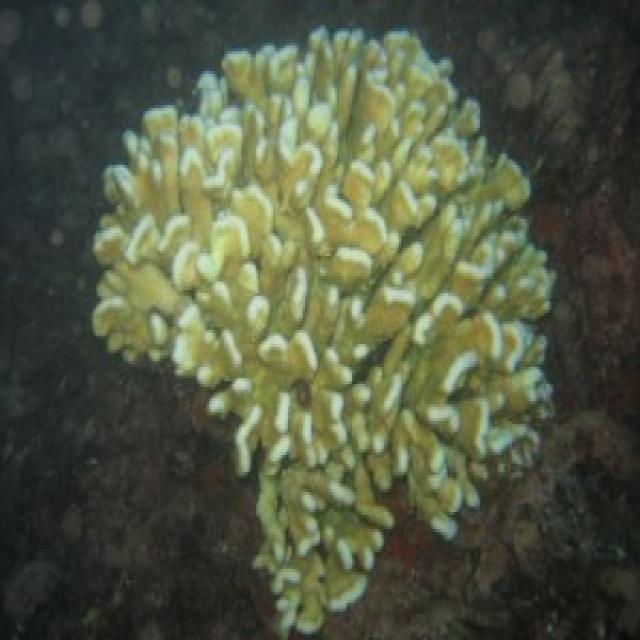Bleached: (95, 29, 554, 635)
